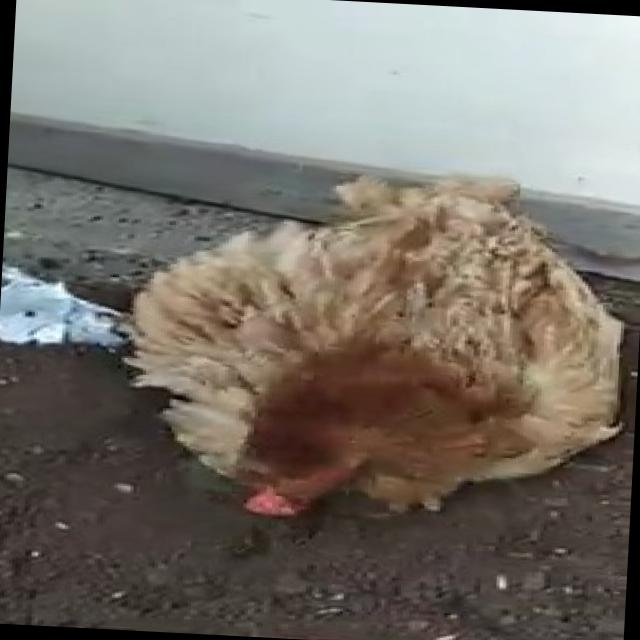stand bath: (87, 136, 640, 542)
